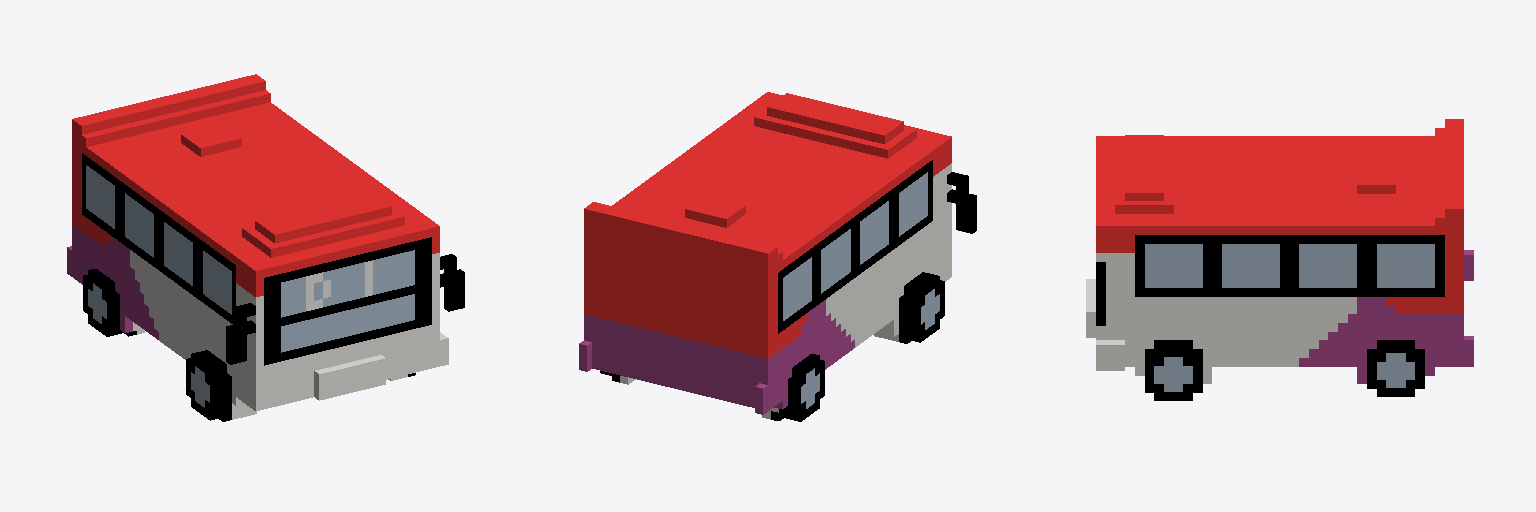
3 views of the same model, side by side, from view 1: azimuth 30°, elevation 25°; view 2: azimuth 150°, elevation 25°; view 3: azimuth 270°, elevation 25° (orthographic).
Parts seen in each view (by area): view 1: object 1; view 2: object 1; view 3: object 1.
Boxes of the visible parts, <box> form: object 1: <box>67,74,464,421</box>; object 1: <box>579,92,976,421</box>; object 1: <box>1086,119,1473,400</box>.
Size of the model in its own units: 2.8 by 2.1 by 4.
1 materials, 1 textured.